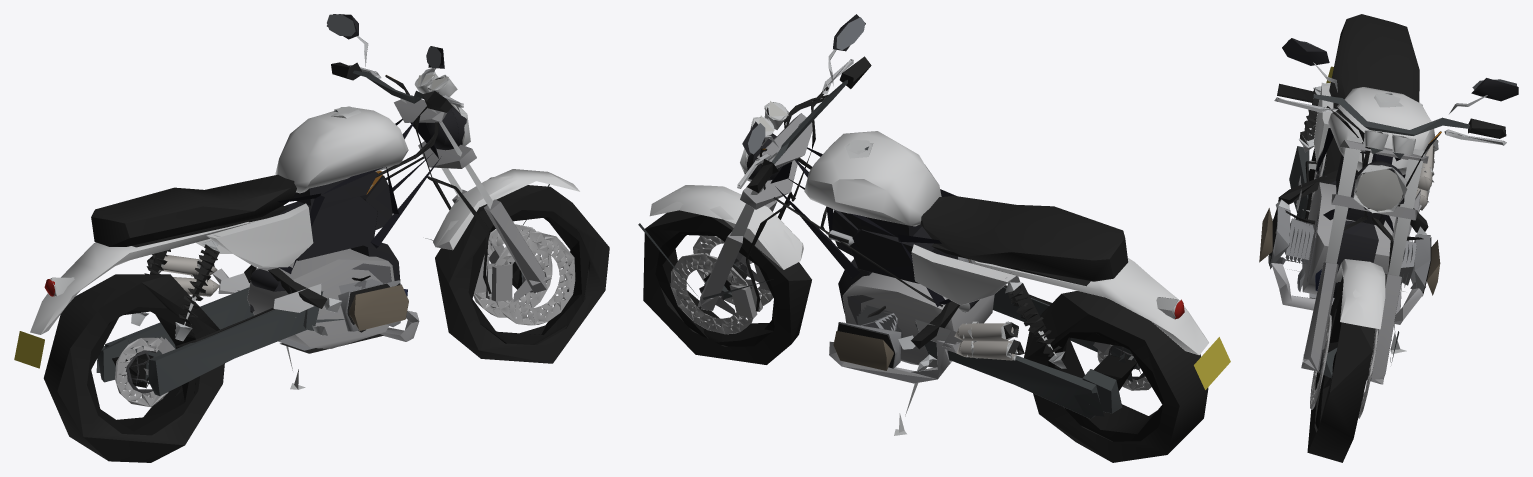
File: SM_Prop_house_bike_8_LOD1.glb
3 renders of one model, left to right at view 1: azimuth 30°, elevation 25°; view 2: azimuth 150°, elevation 25°; view 3: azimuth 270°, elevation 25°, orthographic.
Parts seen in each view (by area): view 1: SM_Prop_house_bike_8_LOD1; view 2: SM_Prop_house_bike_8_LOD1; view 3: SM_Prop_house_bike_8_LOD1.
Boxes of the visible parts, x1,y1,x2,y2 form: SM_Prop_house_bike_8_LOD1: (14, 14, 609, 462); SM_Prop_house_bike_8_LOD1: (638, 14, 1230, 462); SM_Prop_house_bike_8_LOD1: (1259, 14, 1518, 462).
Size of the model in its own units: 2.21 by 1.31 by 0.8523.
